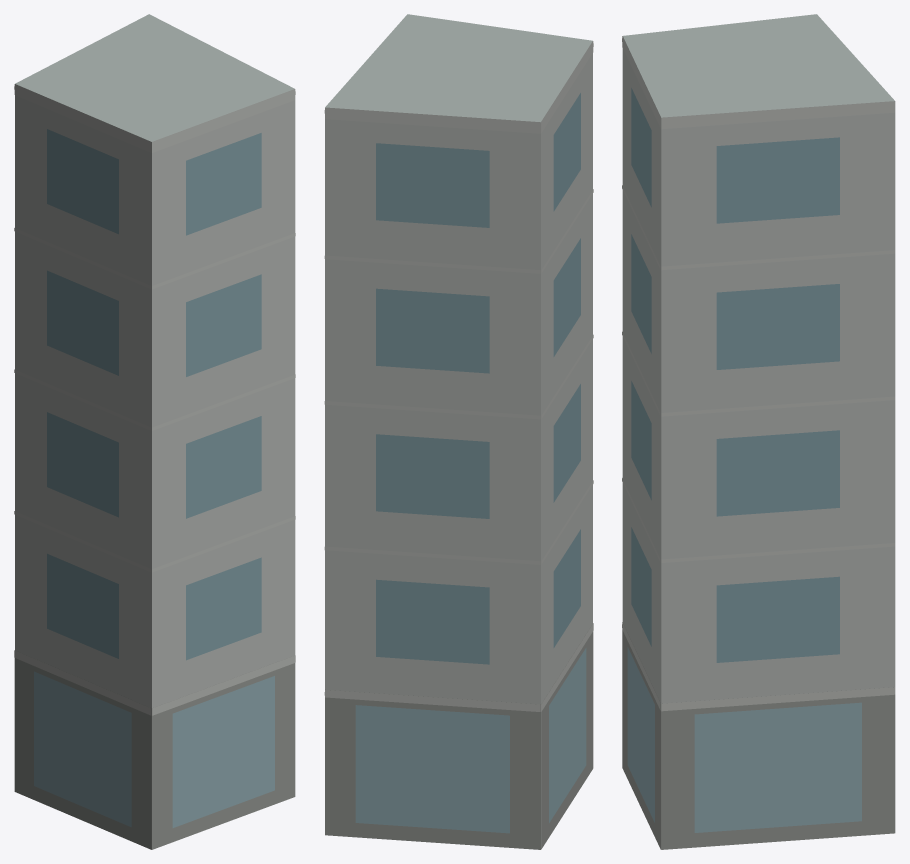
File: survey-upis-33006600.glb
3 renders of one model, left to right at view 1: azimuth 30°, elevation 25°; view 2: azimuth 150°, elevation 25°; view 3: azimuth 270°, elevation 25°, orthographic. The views are drawn at different scales.
Parts seen in each view (by area): view 1: survey-upis-33006600.tmp; view 2: survey-upis-33006600.tmp; view 3: survey-upis-33006600.tmp.
Part boxes in pixels (left/top/right/bottom): survey-upis-33006600.tmp: left=14, top=14, right=295, bottom=849; survey-upis-33006600.tmp: left=324, top=14, right=593, bottom=849; survey-upis-33006600.tmp: left=622, top=14, right=895, bottom=849.
Size of the model in its own units: 4.65 by 15.25 by 5.17.
